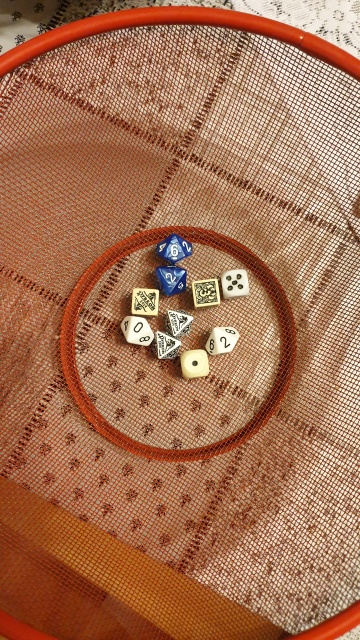d10-10: (114, 314, 153, 350)
d10-2: (200, 324, 246, 356), (153, 262, 188, 296)
d10-6: (156, 232, 196, 265)
d6-1: (178, 346, 210, 379)
d6-5: (217, 267, 251, 298)
d6p-1: (129, 289, 159, 317)
d6p-3: (189, 280, 221, 307)
d8p-1: (152, 329, 181, 362), (165, 308, 195, 338)
